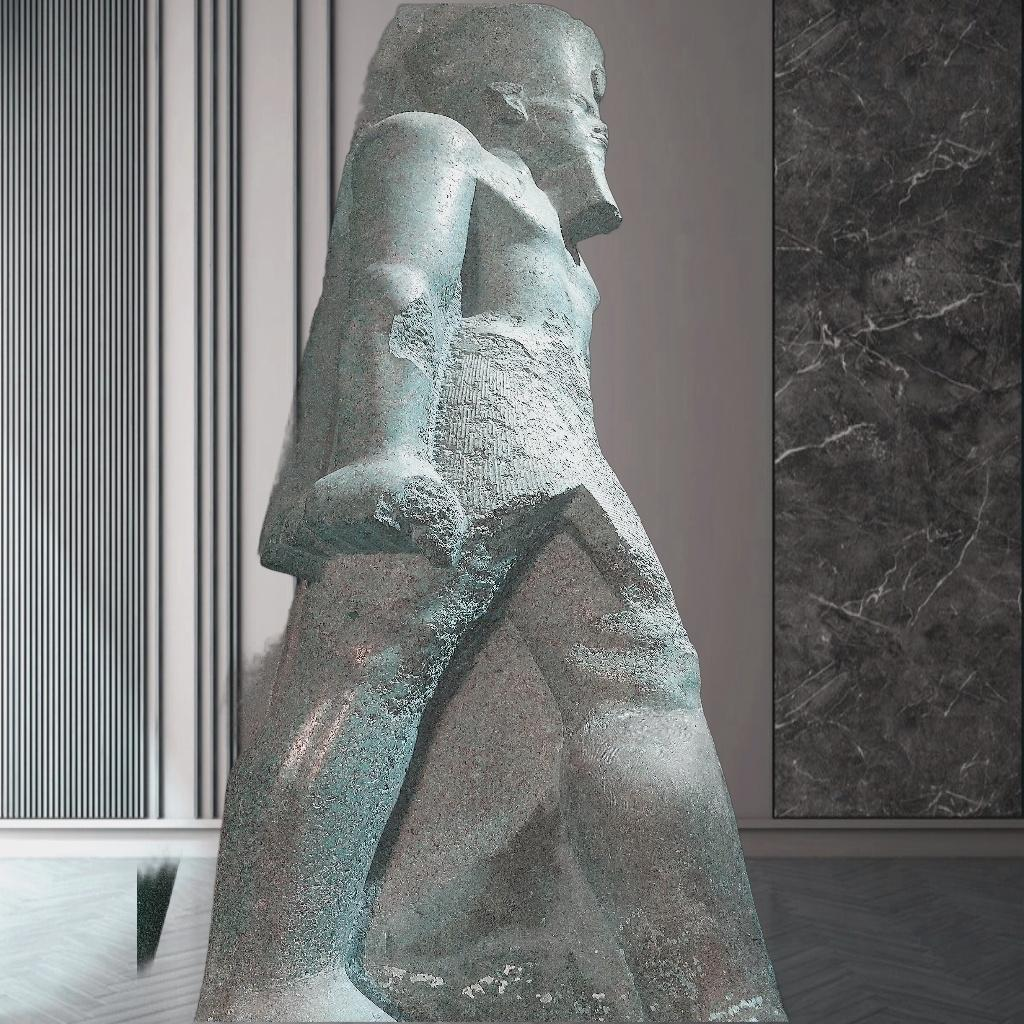Senwosret III: (138, 2, 800, 1022)
